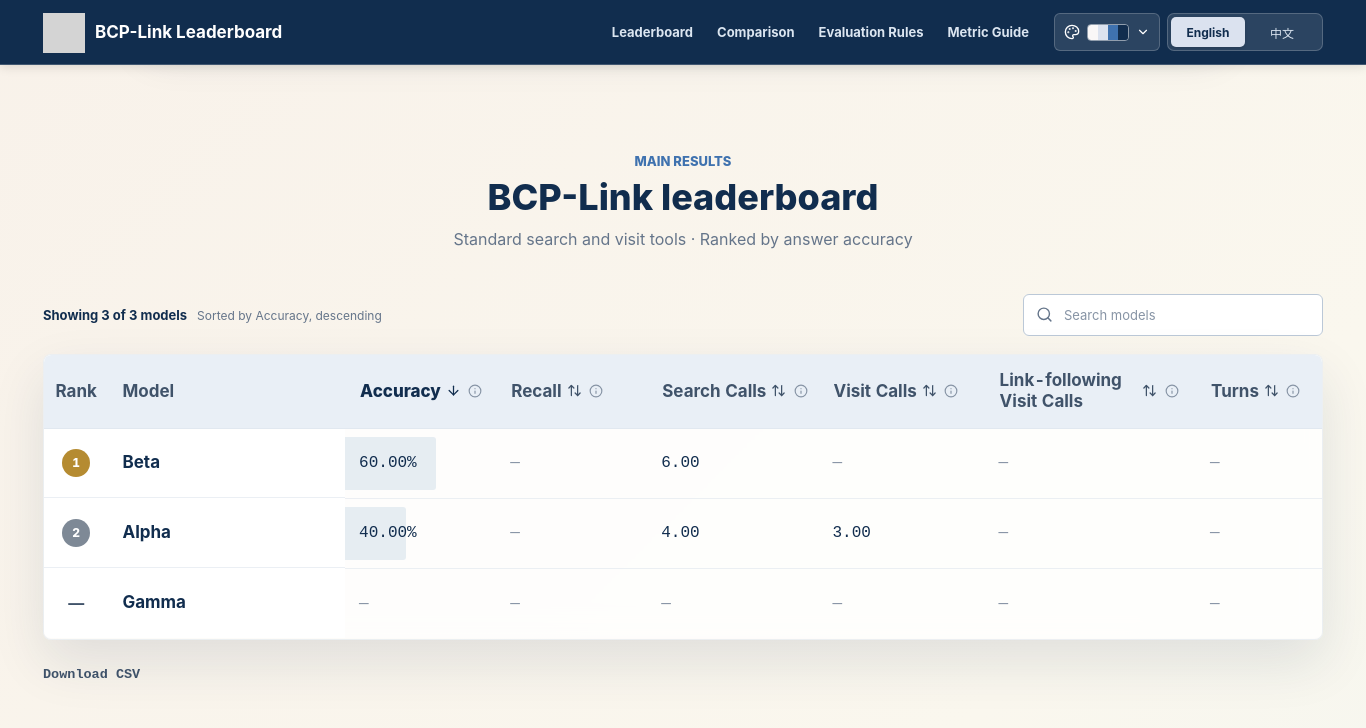
Test: LeaderboardApp › switches language and theme while preserving active controls
This screenshot has width=1366, height=728.
(page scrolled)
Step 1. Click the button with aria-label "Sort by Visit Calls" → (885, 391), box [832,371,938,411]
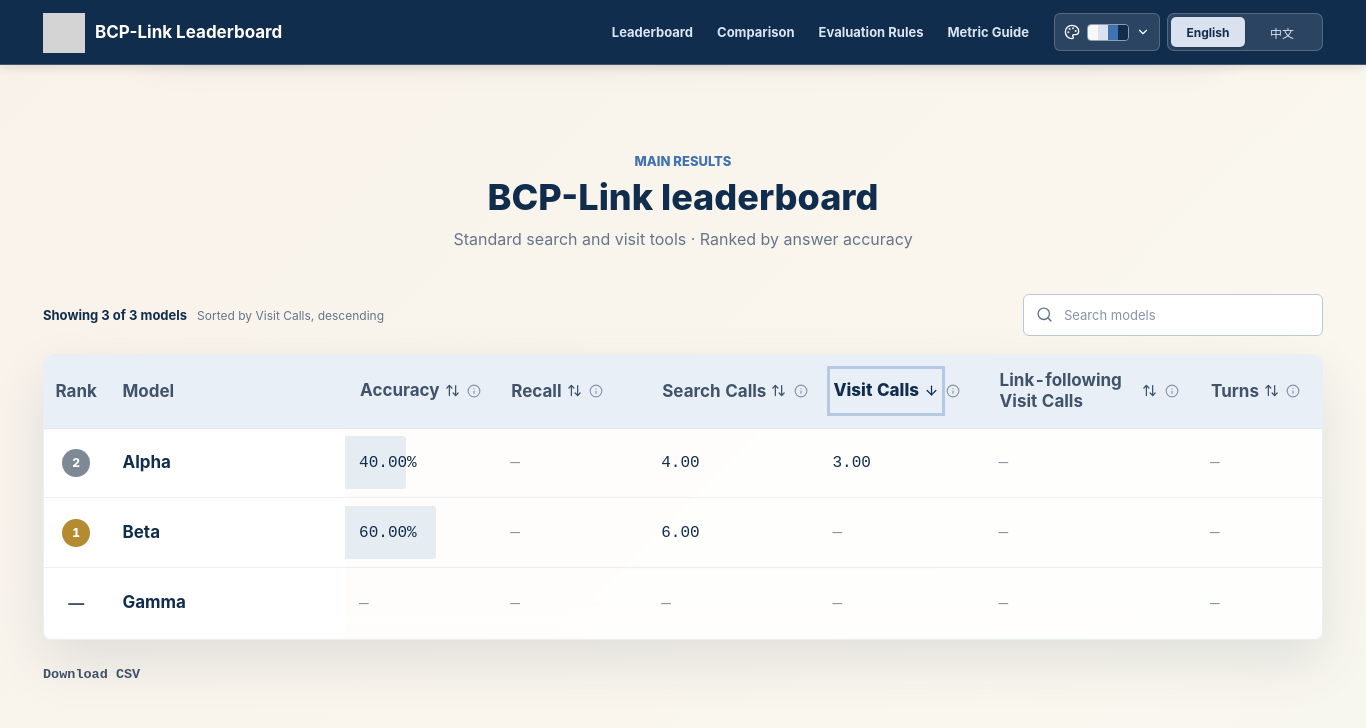
Step 2. Type "a" into the search field labelled "Search models" → (1173, 315), box [1023,294,1323,336]
(page scrolled)
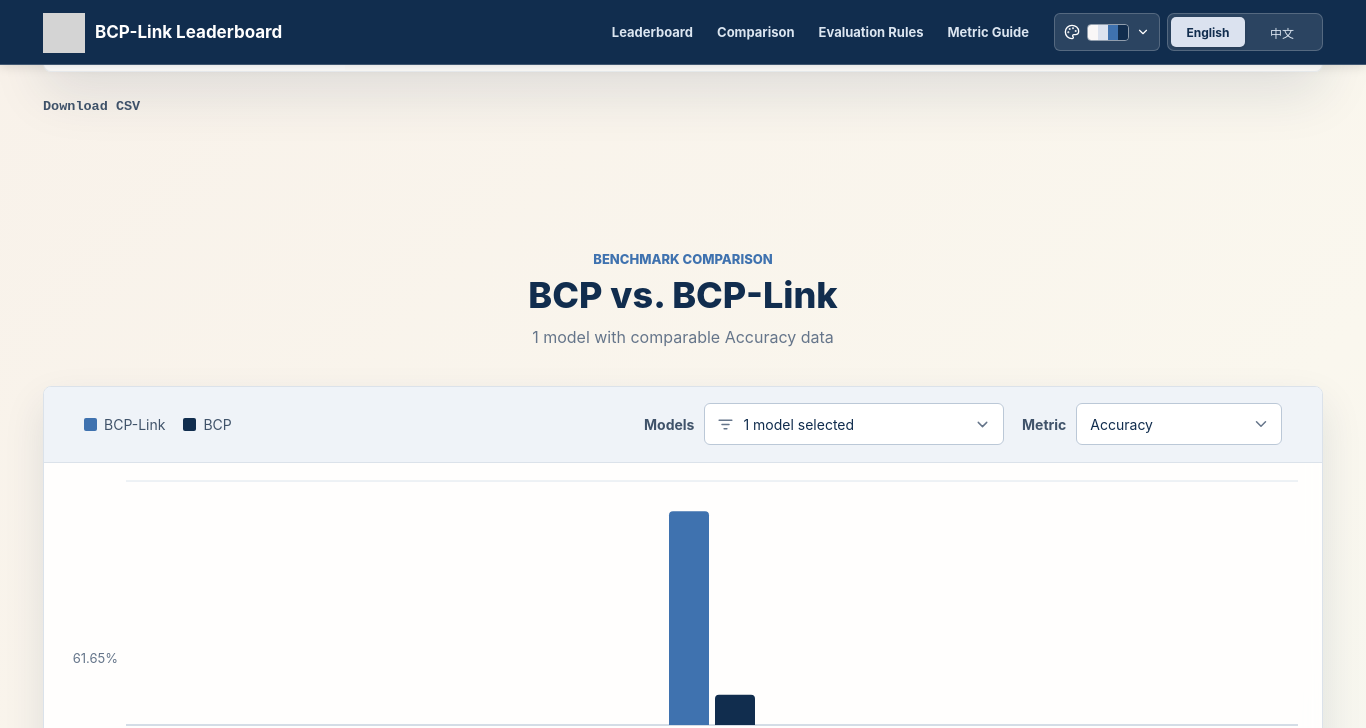
Step 3. Select "Recall" in the dropdown named "Comparison metric" → (1179, 424), box [1076,403,1282,445]
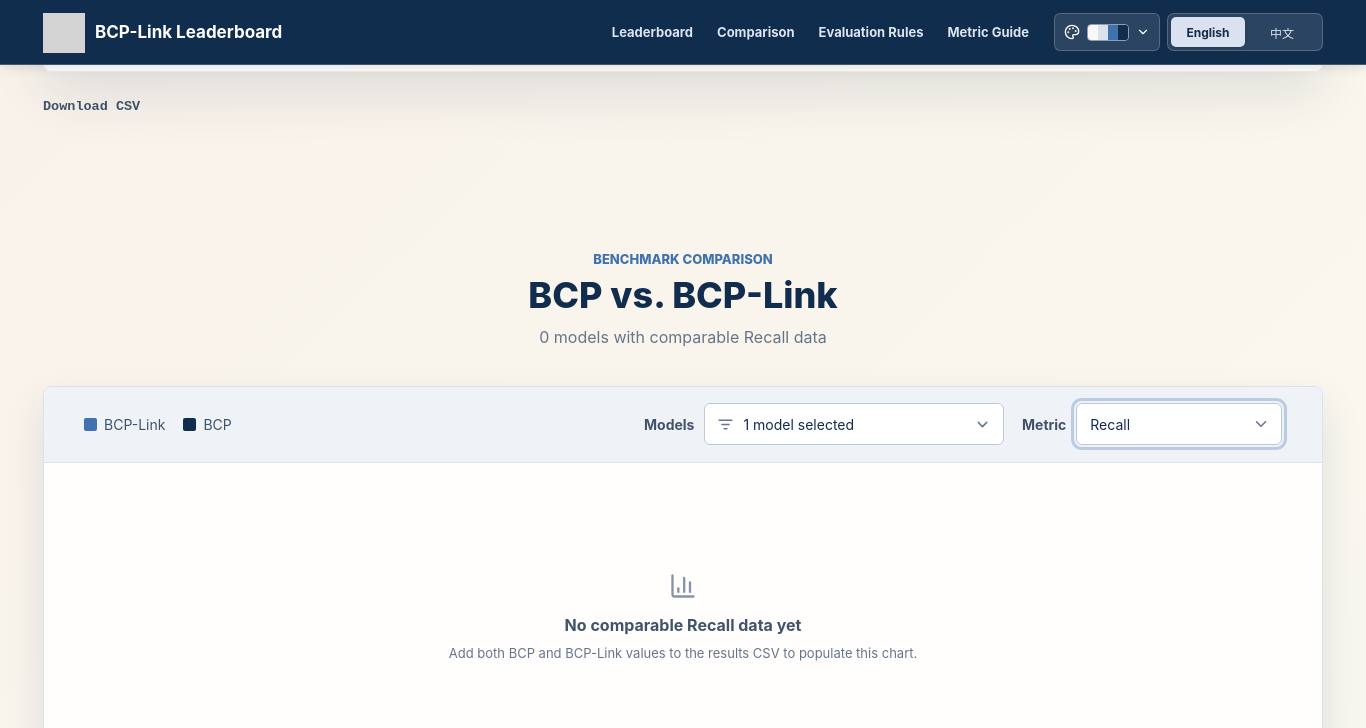
Step 4. Click the button named "Choose color theme" → (1107, 32), box [1054,13,1160,51]
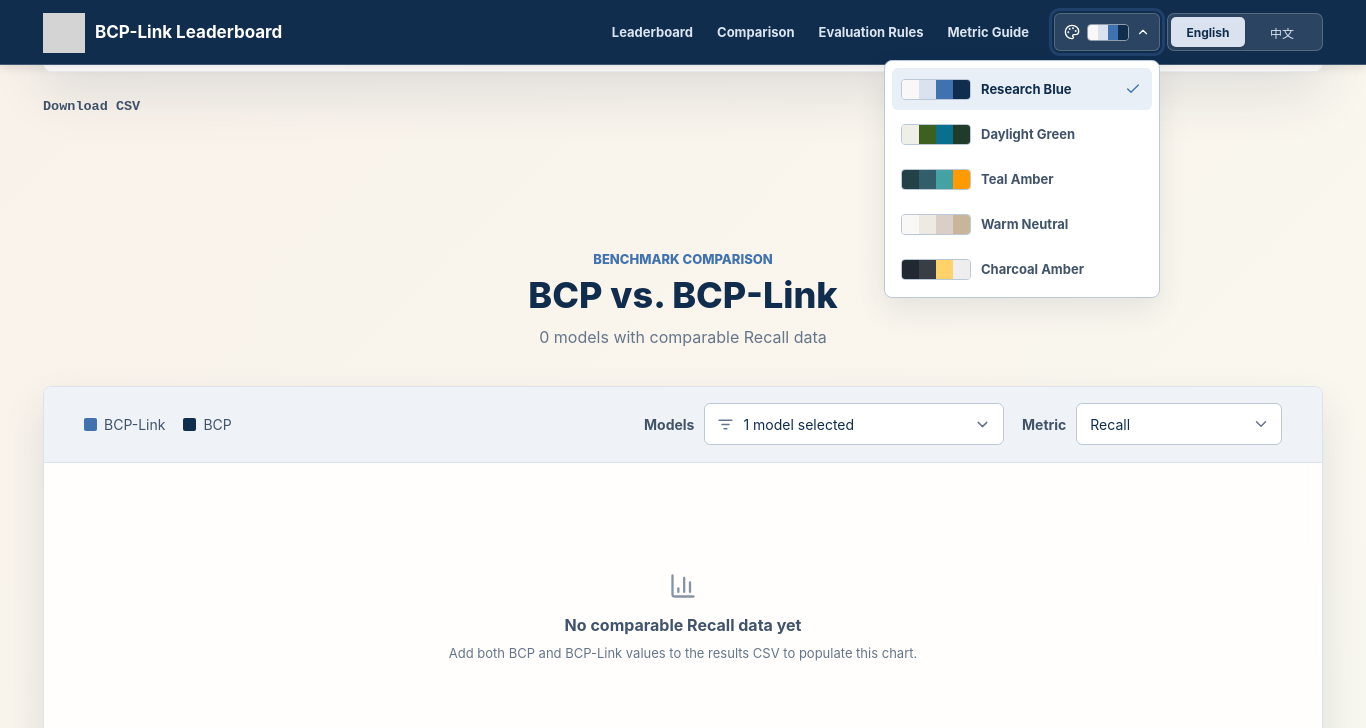
Step 5. Click the menu item "Teal Amber" → (1022, 179), box [892,158,1152,200]
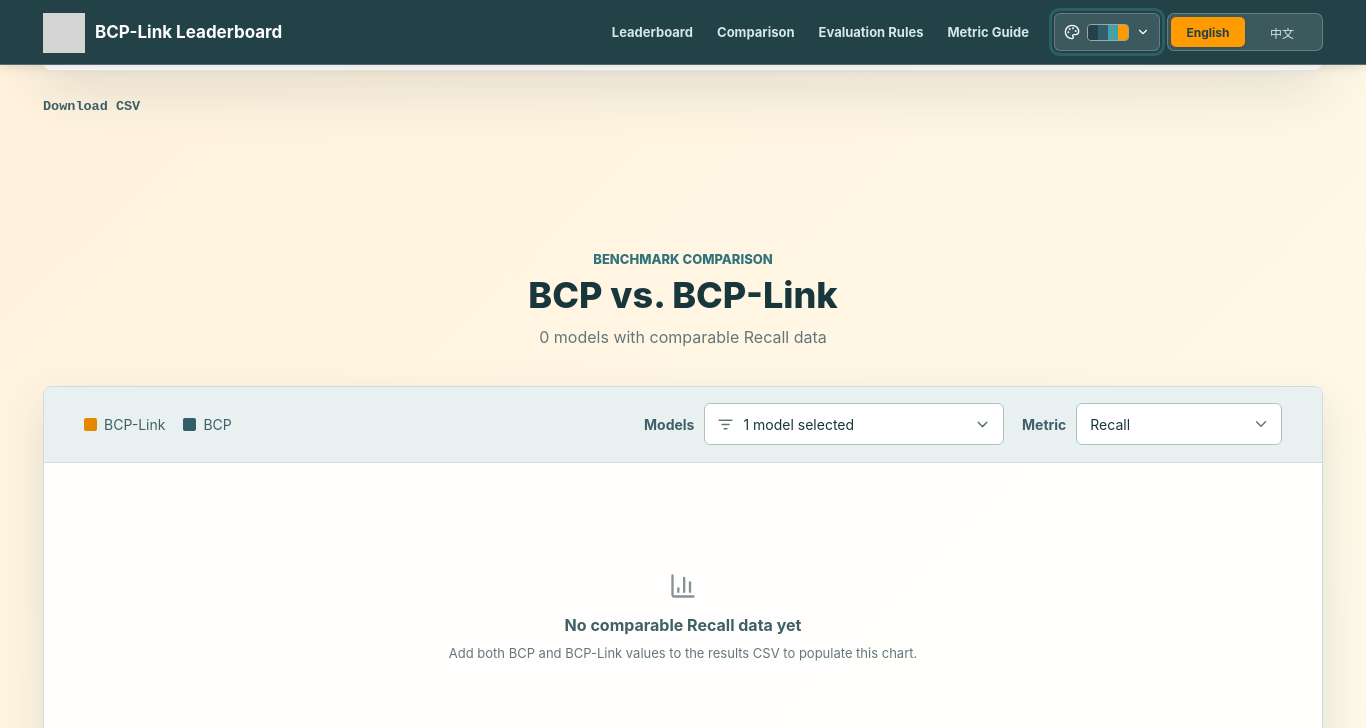
Step 6. Click the button with aria-label "使用中文" → (1282, 32), box [1245,17,1319,47]
(page scrolled)
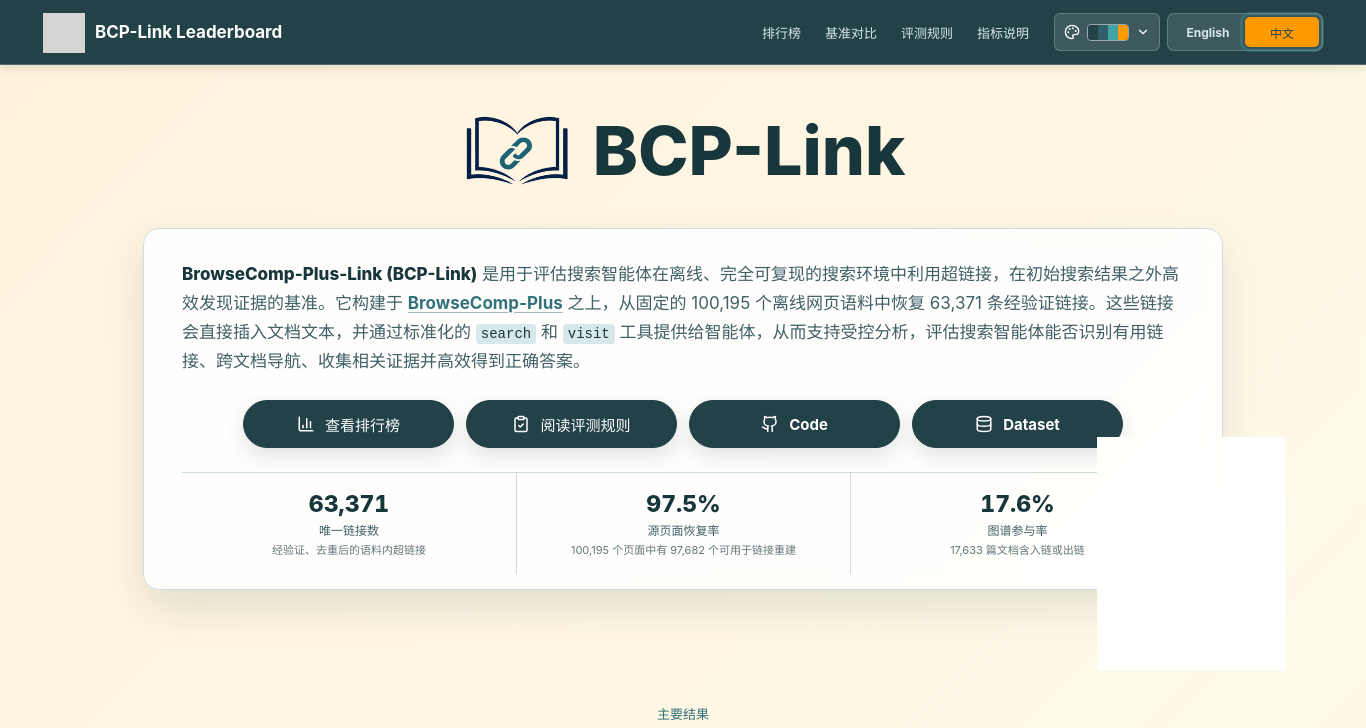
Now the link "指标说明" is shown, box [977,24,1029,40]
Now the text "它构建于 BrowseComp-Plus 之上，从固定的 100,195 个离线网页语料中恢复 63,371 条经验证链接。这些链接会直接插入文档文本，并通过标准化的 search 和 visit 工具提供给智能体" is shown, box [182,260,1184,376]
